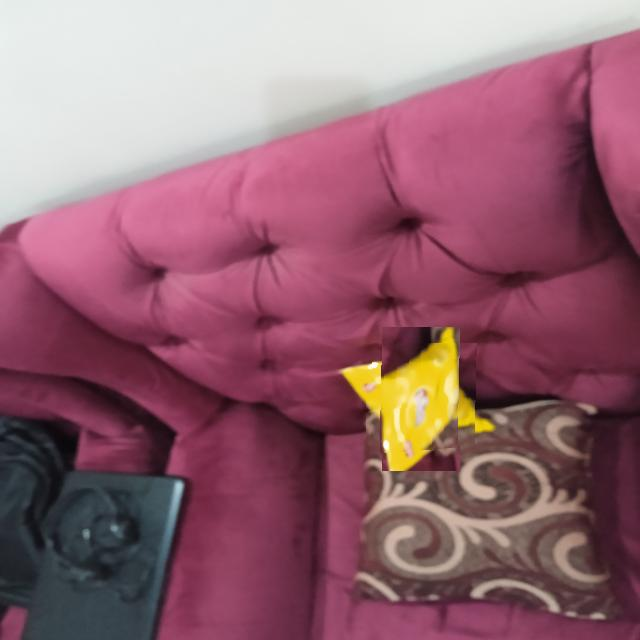Plastic: (366, 343, 477, 455)
